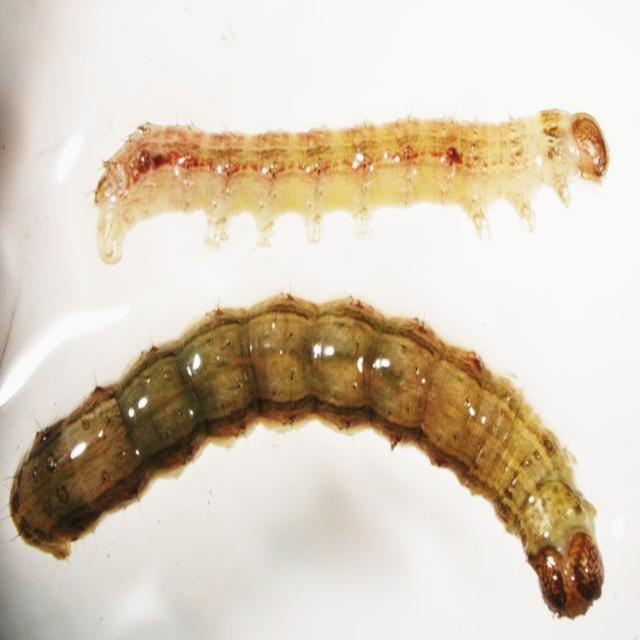Plaga: (13, 290, 610, 623), (88, 103, 610, 260)
